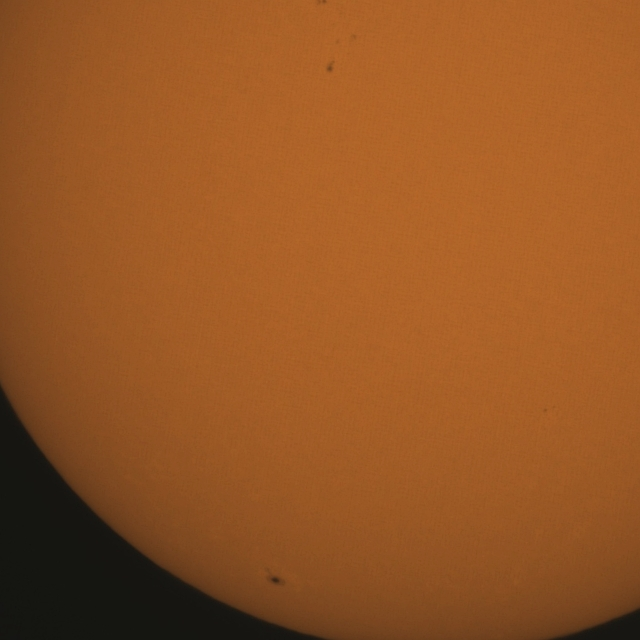sunspot: (264, 566, 286, 588), (326, 58, 336, 74), (542, 404, 556, 415), (316, 0, 327, 6)
